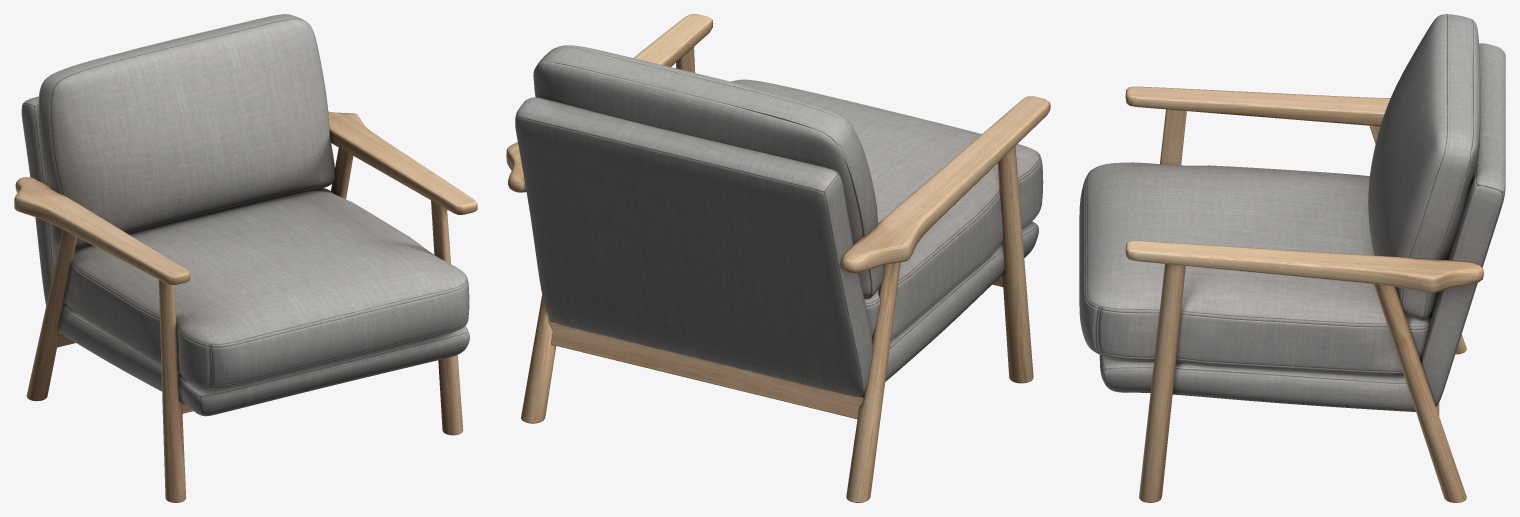
File: ac-chair.glb
3 renders of one model, left to right at view 1: azimuth 30°, elevation 25°; view 2: azimuth 150°, elevation 25°; view 3: azimuth 270°, elevation 25°, orthographic. The views are drawn at different scales.
Visible parts, largest first — view 1: Lars_Accent_Chair; view 2: Lars_Accent_Chair; view 3: Lars_Accent_Chair.
Boxes of the visible parts, box(x1,y1,x2,y2) form: Lars_Accent_Chair: box(14, 14, 477, 502); Lars_Accent_Chair: box(506, 14, 1050, 502); Lars_Accent_Chair: box(1079, 14, 1505, 502).
Size of what is drawn, in the model's own units: 80.27 by 72.36 by 78.81.
2 materials, 2 textured.
